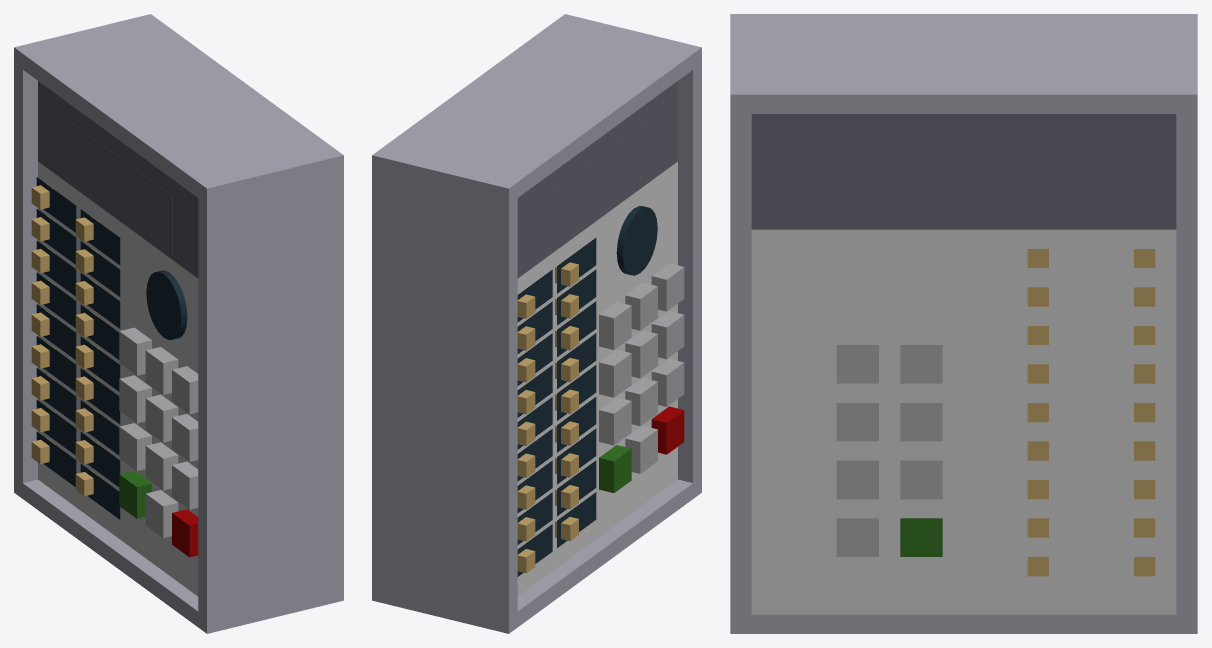
File: pasador.gltf
3 views of the same model, side by side, from view 1: azimuth 30°, elevation 25°; view 2: azimuth 150°, elevation 25°; view 3: azimuth 270°, elevation 25° (orthographic). The views are drawn at different scales.
Visible parts, largest first — view 1: Part (×38); view 2: Part (×38); view 3: Part (×14).
Part boxes in pixels (x1,y1,x2,y2): Part (×38): [14, 14, 343, 633]; Part (×38): [372, 14, 701, 633]; Part (×14): [730, 14, 1197, 633].
Bounding box in the file's own units: 0.9 × 2.8 × 2.2.
